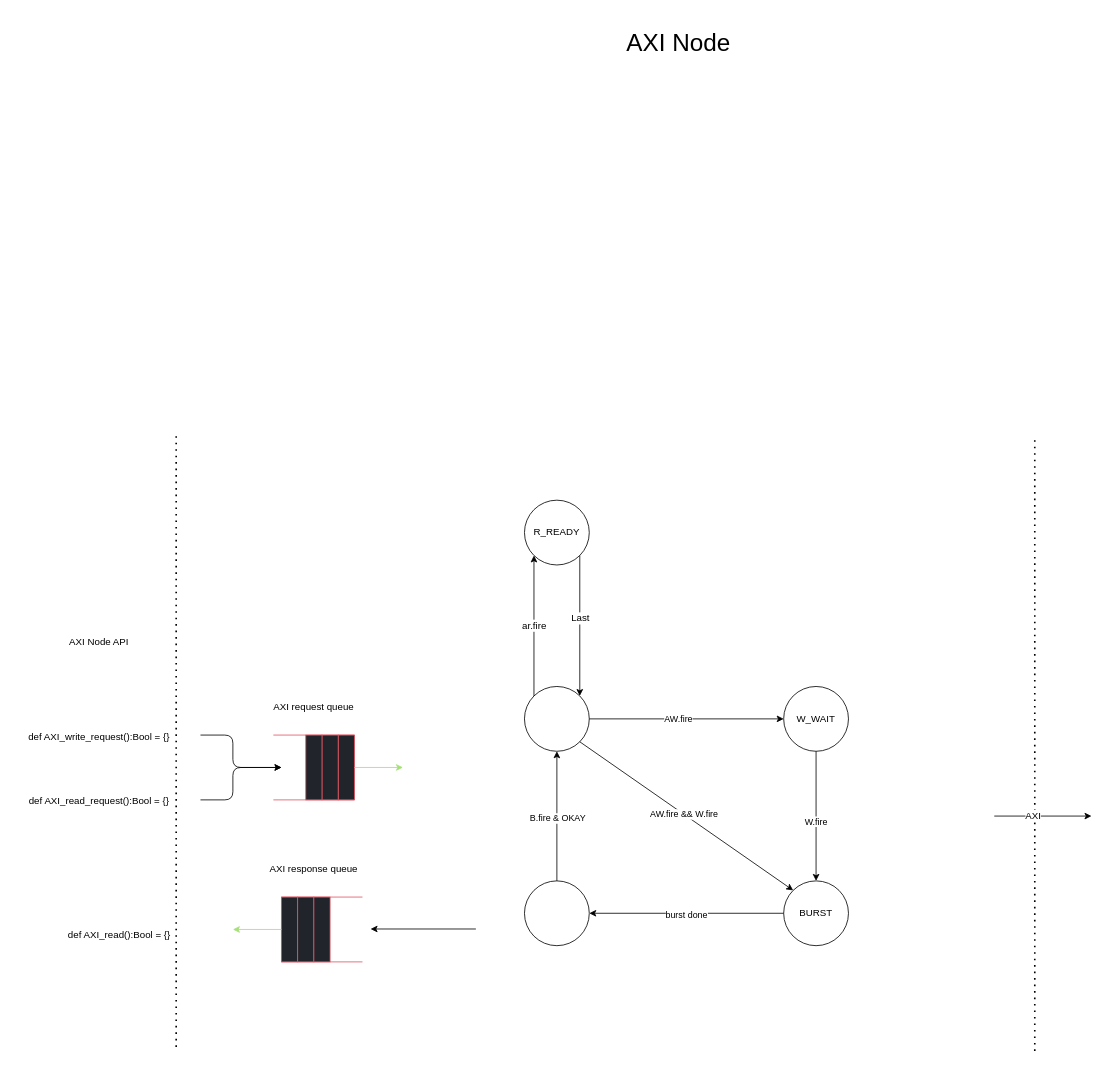
The diagram is 1112 pixels wide and 1066 high, and some of its shapes have lost their labels. The box of each missing label's shape, as (x1, y1, x2, y2) in pixels:
B_READY: (524, 880, 589, 946)
IDLE: (524, 686, 589, 751)
